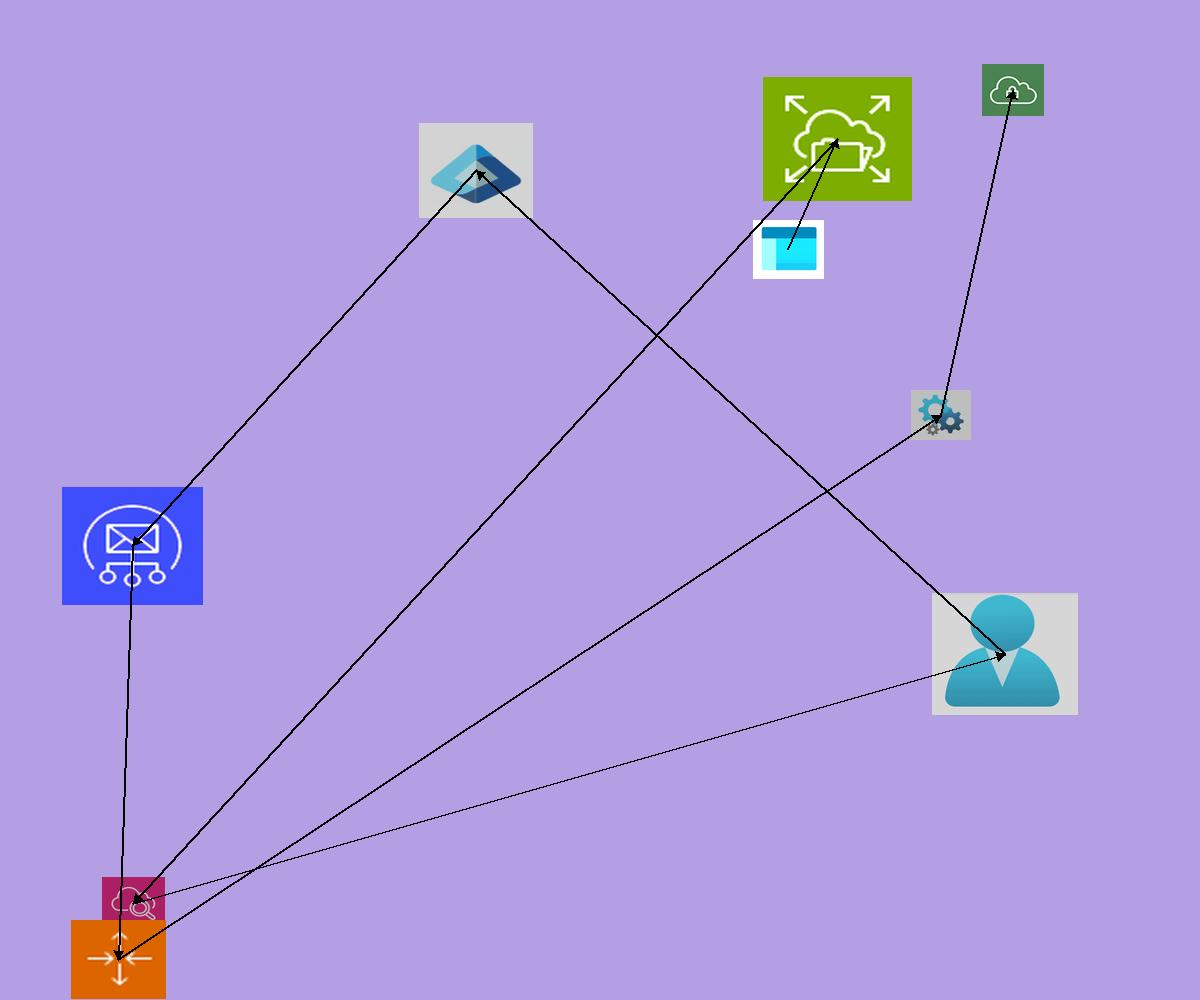AWS-CloudWatch: (102, 877, 165, 930)
AWS-EFS: (763, 77, 912, 201)
AWS-Private_vpc: (982, 64, 1044, 116)
AWS-Scaling-group: (71, 920, 166, 999)
AWS-Simple-Email-Service: (62, 487, 203, 605)
Azure_api: (911, 390, 971, 440)
Azure_management-portal: (753, 220, 824, 279)
Azure_microsoft_entra: (419, 123, 533, 218)
Azure_users: (932, 593, 1078, 715)
